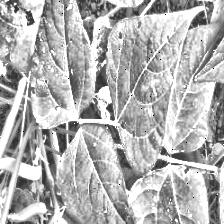ALS: (102, 10, 194, 162), (27, 0, 96, 122), (134, 150, 208, 224), (0, 0, 38, 69)
